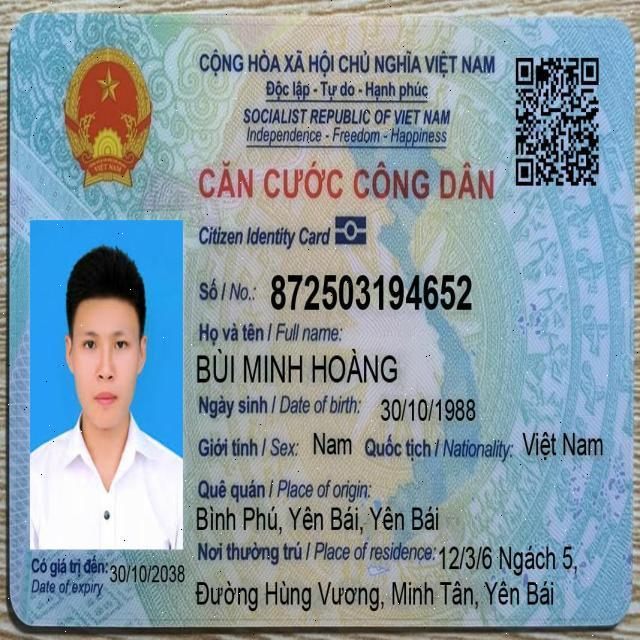current_place: (190, 574, 558, 616), (435, 538, 581, 580)
dob: (378, 392, 480, 428)
expire_date: (106, 557, 189, 589)
gender: (310, 426, 355, 463)
id: (266, 264, 478, 318)
name: (193, 343, 402, 389)
nationality: (519, 423, 608, 466)
origin_place: (191, 498, 444, 538)
